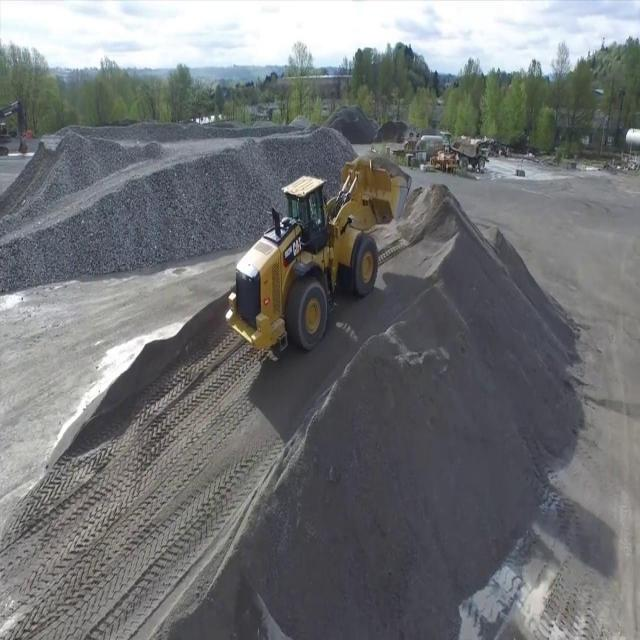Excavator: (0, 96, 28, 158)
Loader: (224, 147, 412, 369)
